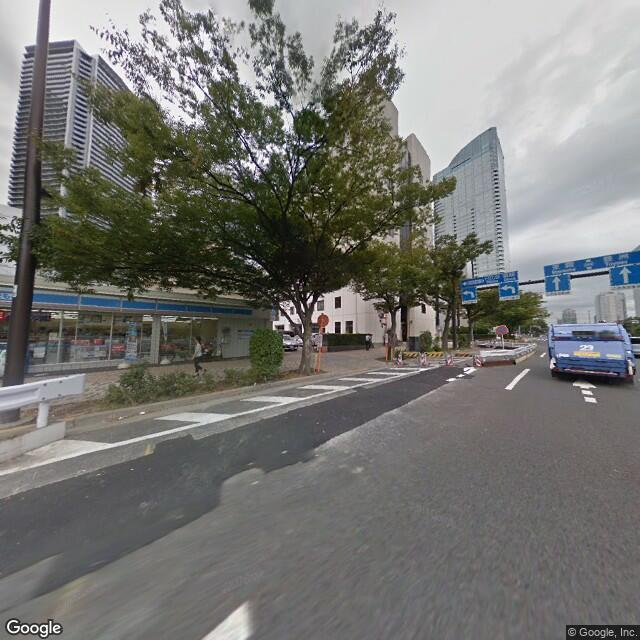lawson: (1, 281, 258, 327)
